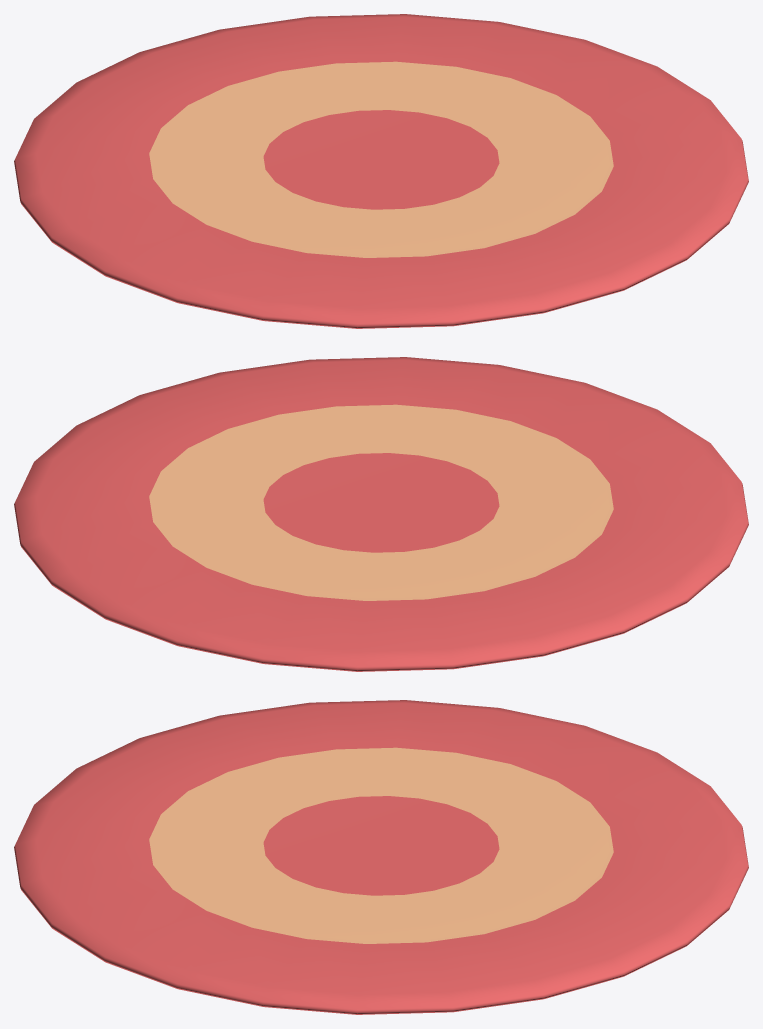
Rendered from Carpet_09.glb.
The picture shows the model from 3 angles, top to bottom: view 1: azimuth 30°, elevation 25°; view 2: azimuth 150°, elevation 25°; view 3: azimuth 270°, elevation 25°; orthographic projection.
Visible parts, largest first — view 1: Carpet_09; view 2: Carpet_09; view 3: Carpet_09.
Part boxes in pixels (x1=…): Carpet_09: x1=14, y1=14, x2=748, y2=328; Carpet_09: x1=14, y1=357, x2=748, y2=671; Carpet_09: x1=14, y1=700, x2=748, y2=1014.
Size of the model in its own units: 1.55 by 0.0366 by 1.55.
Materials: 1 (1 with a texture image).
